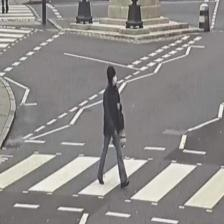person: (96, 65, 128, 186)
